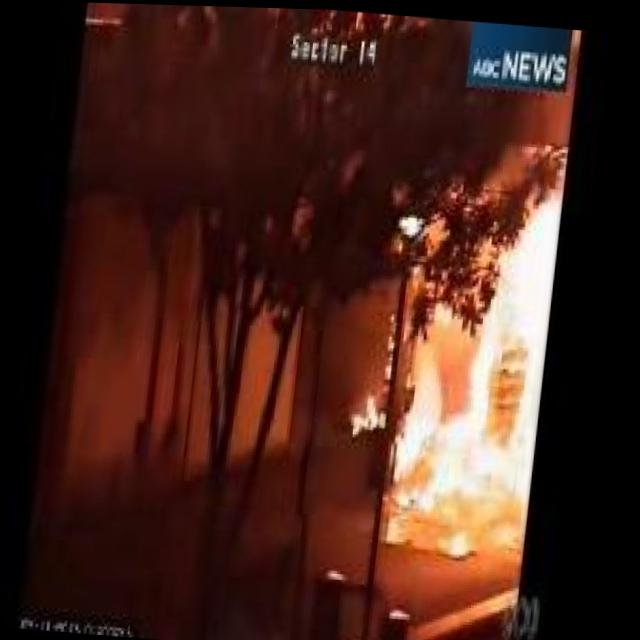fire: (340, 152, 571, 563)
